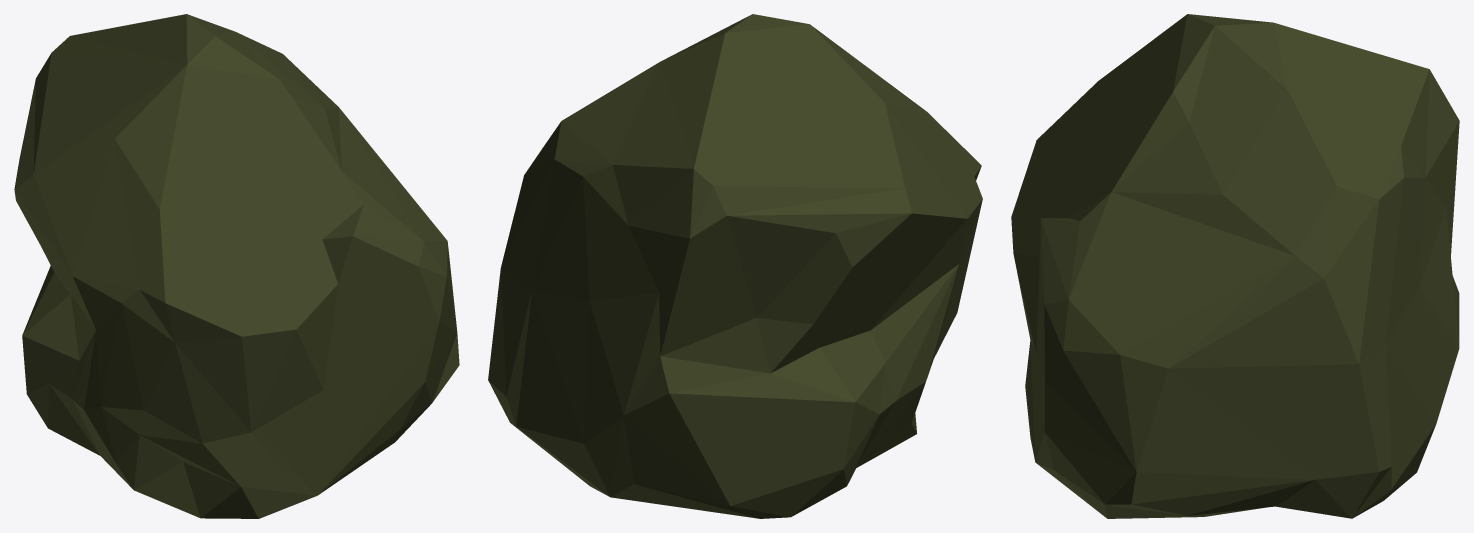
The model's file is SM_small_rock_25.fbx.
The picture shows the model from 3 angles, left to right: view 1: azimuth 30°, elevation 25°; view 2: azimuth 150°, elevation 25°; view 3: azimuth 270°, elevation 25°; orthographic projection. The views are drawn at different scales.
Parts seen in each view (by area): view 1: small_rock_25; view 2: small_rock_25; view 3: small_rock_25.
Part boxes in pixels (bbox=[...]): small_rock_25: bbox=[14, 14, 459, 518]; small_rock_25: bbox=[488, 14, 982, 518]; small_rock_25: bbox=[1011, 14, 1459, 518].
Size of the model in its own units: 14.39 by 15.01 by 13.78.
